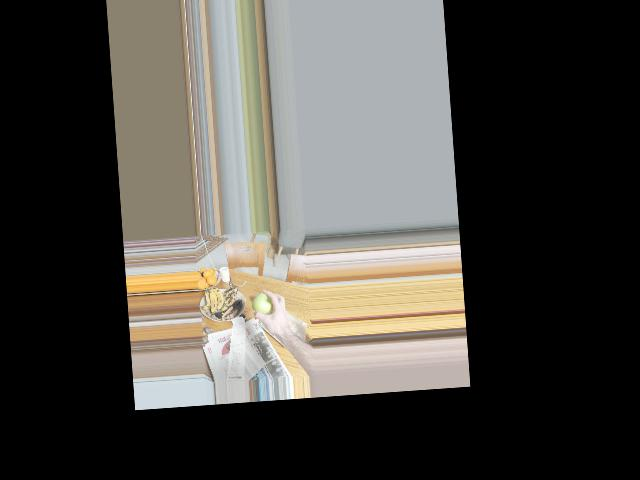apple: (250, 288, 276, 319)
